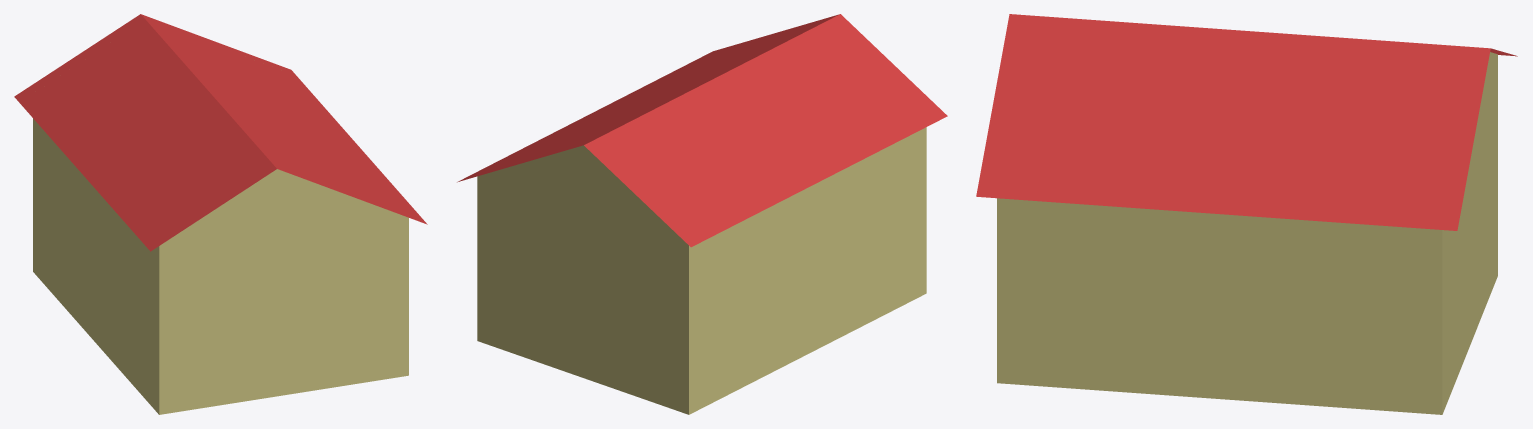
The picture shows the model from 3 angles, left to right: view 1: azimuth 30°, elevation 25°; view 2: azimuth 150°, elevation 25°; view 3: azimuth 270°, elevation 25°; orthographic projection. The views are drawn at different scales.
Bounding box in the file's own units: 12.22 × 14.89 × 8.84.
